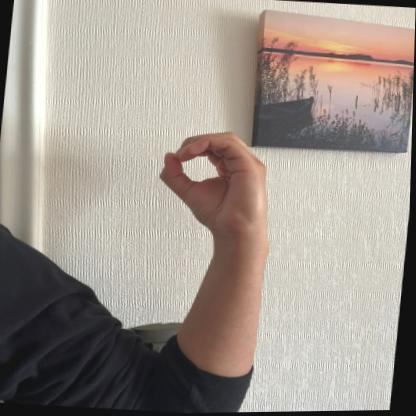O: (149, 123, 278, 237)
